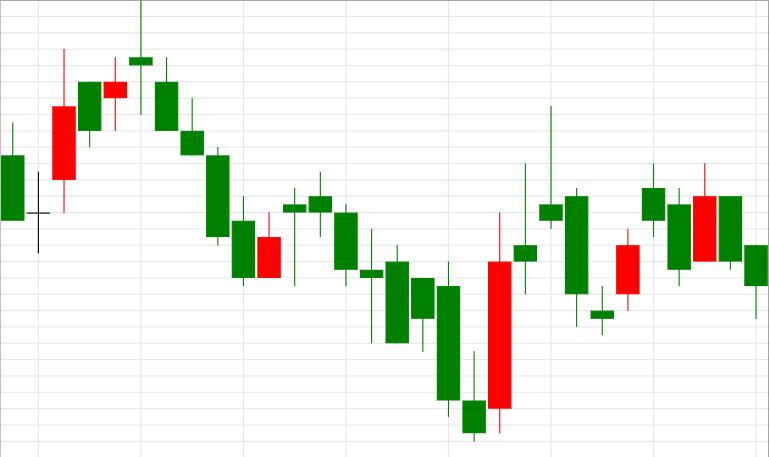evening_star_fall: (26, 1, 178, 254)
inverse_hammer_rise: (282, 171, 486, 442)
morning_star_rise: (539, 105, 640, 336)
